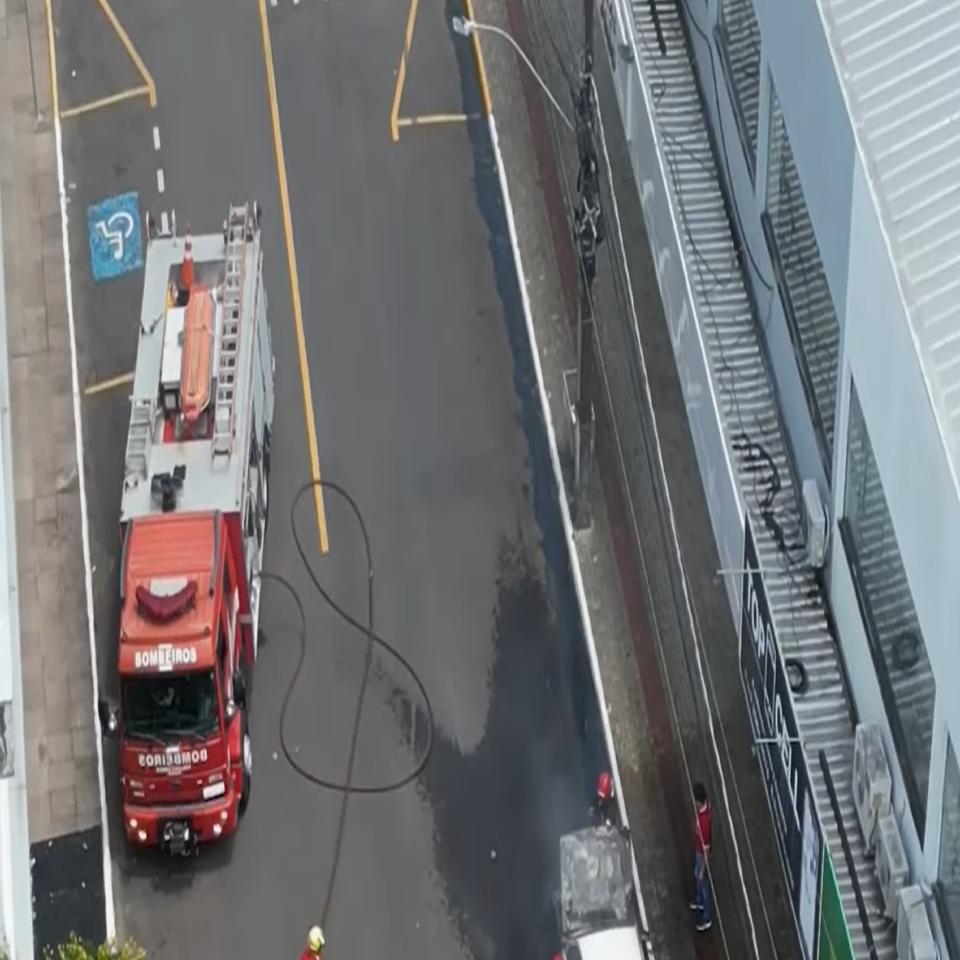bombeiro: (98, 200, 276, 862)
